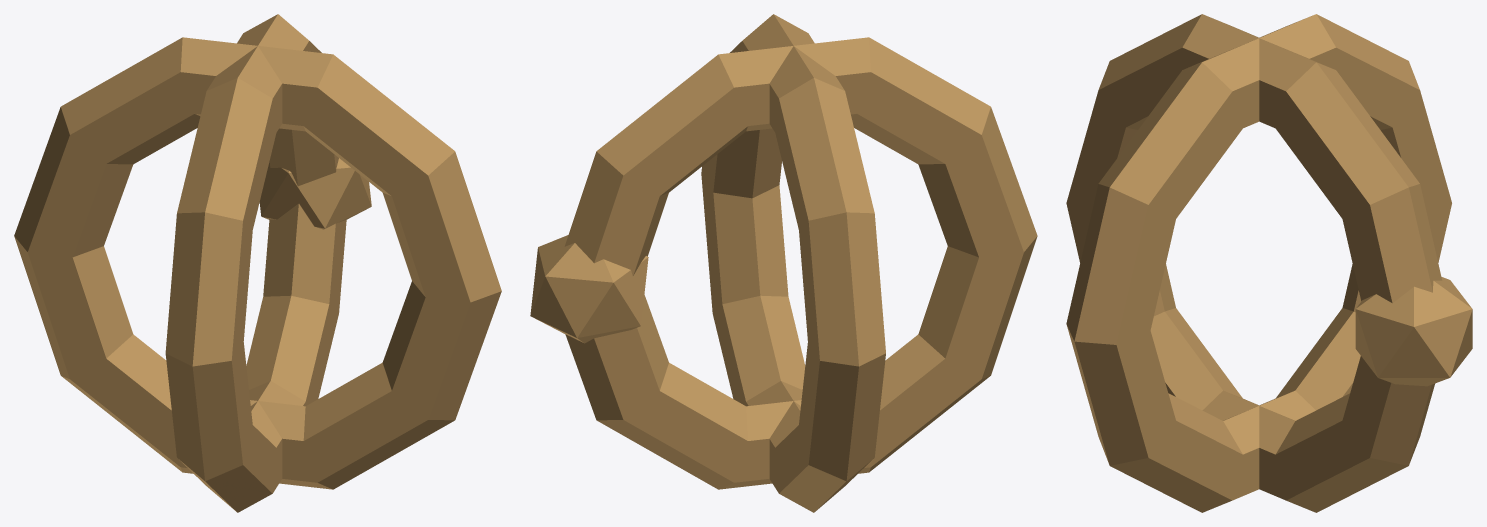
Rendered from rope_lashing.fbx.
3 renders of one model, left to right at view 1: azimuth 30°, elevation 25°; view 2: azimuth 150°, elevation 25°; view 3: azimuth 270°, elevation 25°, orthographic. The views are drawn at different scales.
Parts seen in each view (by area): view 1: RopeLashing; view 2: RopeLashing; view 3: RopeLashing.
Boxes of the visible parts, <box> form: RopeLashing: <box>14,14,501,512</box>; RopeLashing: <box>530,14,1037,512</box>; RopeLashing: <box>1066,14,1472,512</box>.
Size of the model in its own units: 0.119 by 0.1446 by 0.1181.
